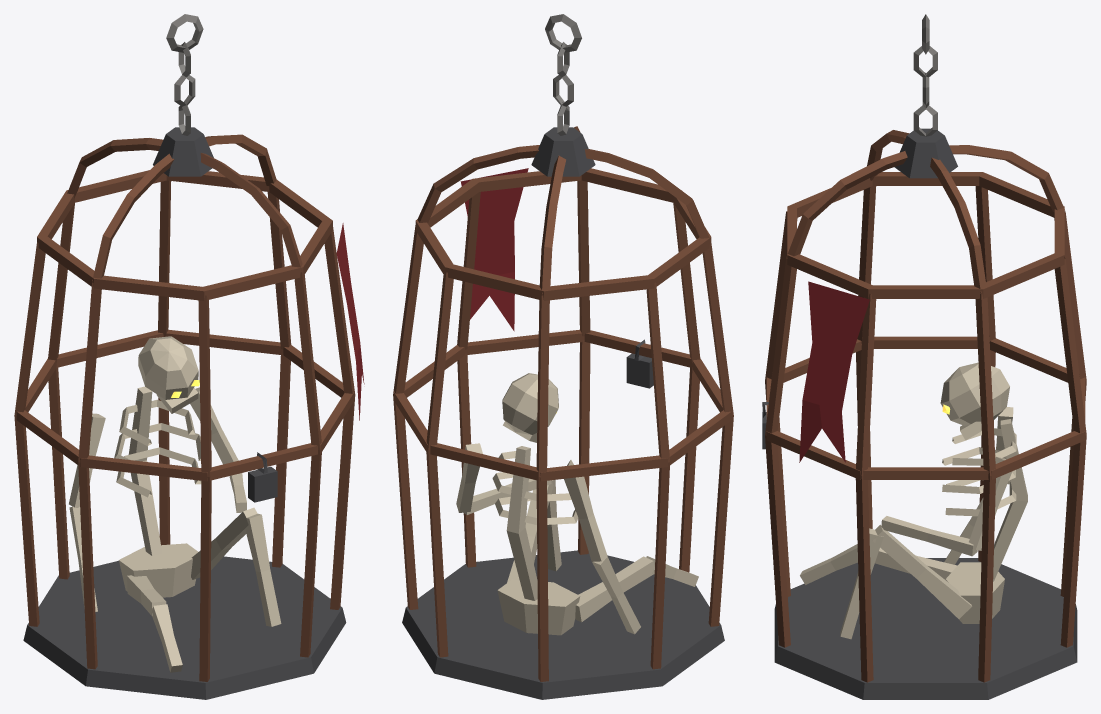
File: gibbet-cage.glb
The picture shows the model from 3 angles, left to right: view 1: azimuth 30°, elevation 25°; view 2: azimuth 150°, elevation 25°; view 3: azimuth 270°, elevation 25°; orthographic projection.
Visible parts, largest first — view 1: cage_frame, cage_floor, skel_skull, skel_pelvis, skel_ribs, skel_spine, cage_crown, skel_leg_lower_l, rag, skel_leg_upper_l, skel_leg_lower_r, padlock (+5 smaller); view 2: cage_frame, cage_floor, rag, skel_pelvis, skel_spine, skel_skull, cage_crown, skel_leg_upper_r, skel_arm_upper_r, skel_ribs, skel_arm_lower_r, skel_arm_upper_l (+5 smaller); view 3: cage_frame, cage_floor, rag, skel_skull, skel_leg_upper_l, cage_crown, skel_ribs, skel_spine, skel_pelvis, skel_arm_lower_l, skel_leg_lower_l, skel_leg_lower_r (+2 smaller).
Boxes of the visible parts, bbox=[...] form: cage_frame: bbox=[14, 134, 355, 681]; cage_floor: bbox=[23, 556, 346, 699]; skel_skull: bbox=[138, 336, 198, 399]; skel_pelvis: bbox=[119, 543, 197, 597]; skel_ribs: bbox=[114, 399, 201, 497]; skel_spine: bbox=[128, 386, 162, 555]; cage_crown: bbox=[153, 127, 213, 176]; skel_leg_lower_l: bbox=[245, 513, 281, 626]; rag: bbox=[336, 223, 364, 420]; skel_leg_upper_l: bbox=[191, 507, 257, 579]; skel_leg_lower_r: bbox=[151, 604, 182, 672]; padlock: bbox=[248, 452, 277, 502]; cage_frame: bbox=[393, 126, 733, 681]; cage_floor: bbox=[402, 550, 724, 699]; rag: bbox=[460, 168, 528, 331]; skel_pelvis: bbox=[497, 579, 580, 635]; skel_spine: bbox=[506, 446, 537, 600]; skel_skull: bbox=[502, 373, 558, 434]; cage_crown: bbox=[531, 127, 595, 176]; skel_leg_upper_r: bbox=[575, 556, 654, 622]; skel_arm_upper_r: bbox=[564, 476, 607, 561]; skel_ribs: bbox=[492, 451, 578, 524]; skel_arm_lower_r: bbox=[592, 556, 640, 634]; skel_arm_upper_l: bbox=[456, 443, 482, 512]; cage_frame: bbox=[765, 130, 1086, 682]; cage_floor: bbox=[774, 558, 1077, 699]; rag: bbox=[799, 281, 869, 462]; skel_skull: bbox=[940, 362, 1009, 425]; skel_leg_upper_l: bbox=[872, 524, 971, 618]; cage_crown: bbox=[894, 128, 957, 178]; skel_ribs: bbox=[942, 428, 1016, 516]; skel_spine: bbox=[993, 419, 1027, 581]; skel_pelvis: bbox=[945, 562, 1004, 623]; skel_arm_lower_l: bbox=[881, 516, 977, 556]; skel_leg_lower_l: bbox=[840, 528, 883, 639]; skel_leg_lower_r: bbox=[800, 544, 857, 584].
Size of what is drawn, in the model's own units: 0.8489 by 1.8 by 0.8522.
